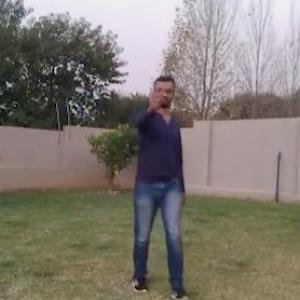takeoff-hand: (142, 83, 170, 116)
